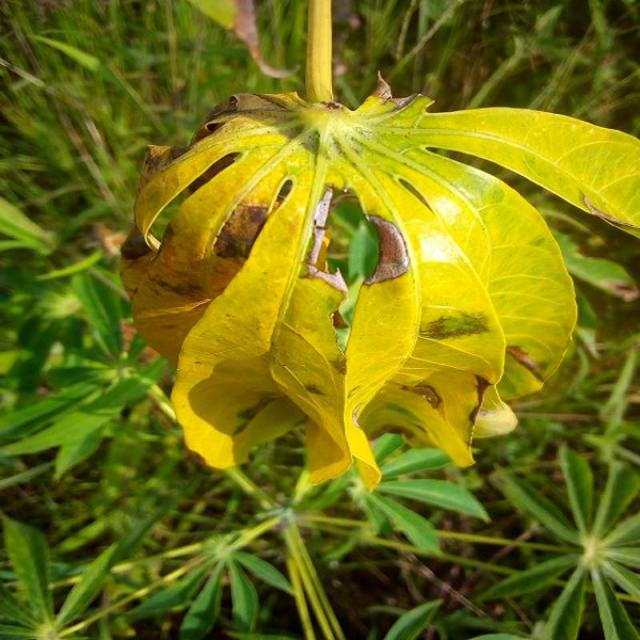cassava leaf: (117, 2, 638, 493)
